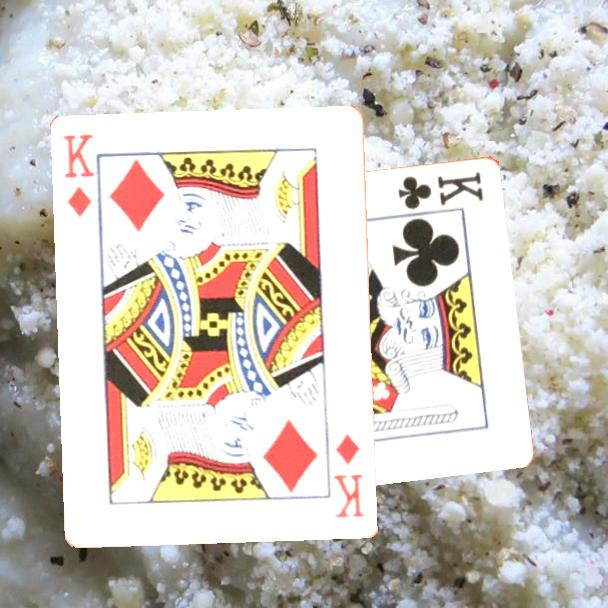c13: (395, 167, 487, 212)
d13: (330, 431, 368, 521), (60, 131, 98, 220)
